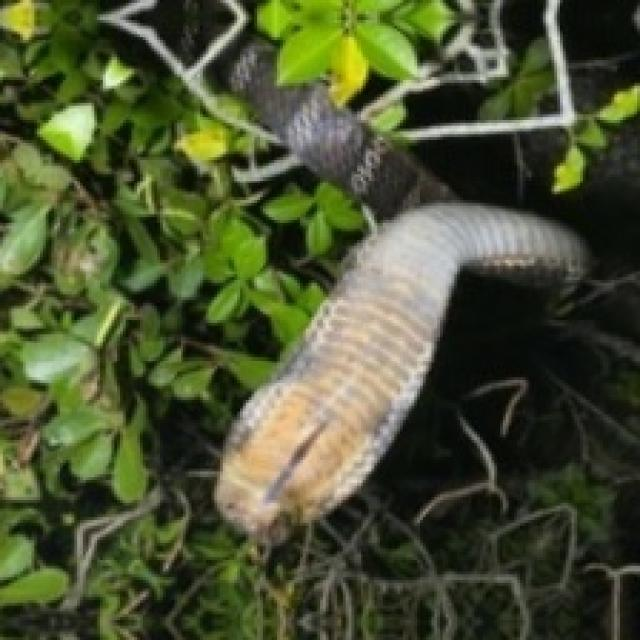king cobra: (214, 203, 586, 540)
